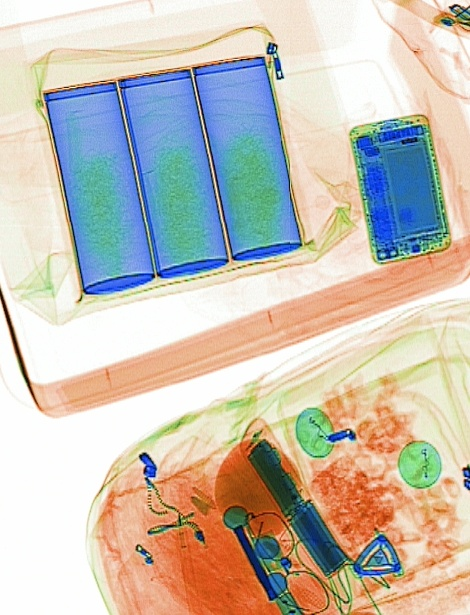powerbank: (244, 436, 350, 578)
